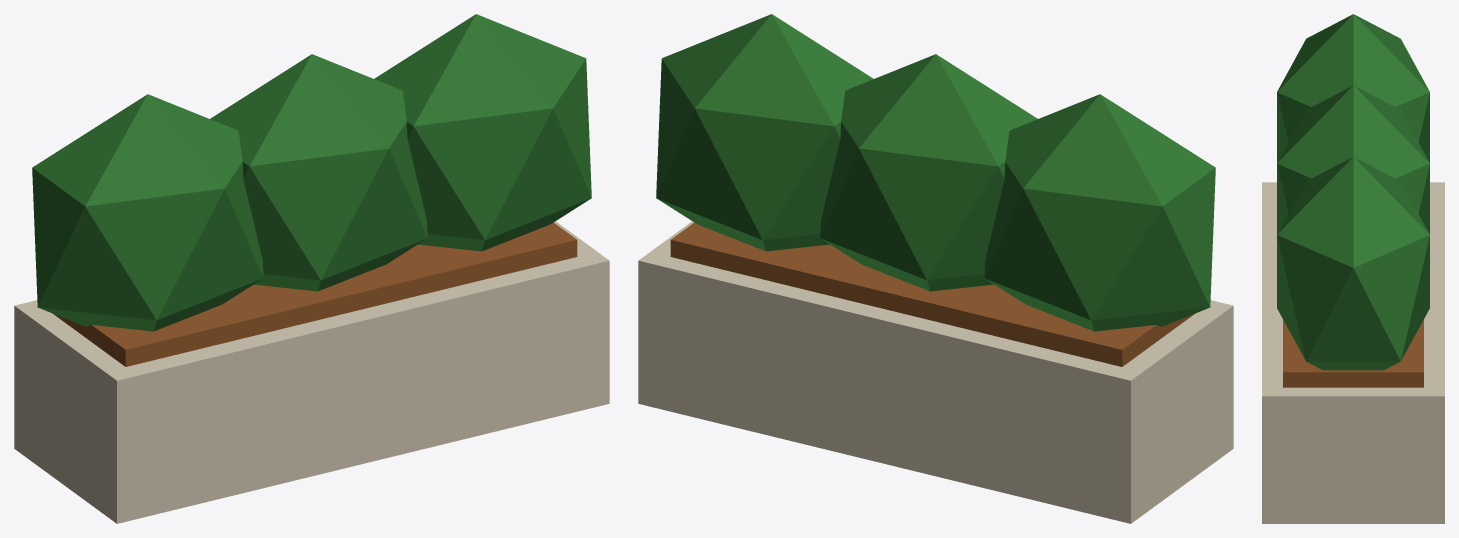
The model's file is hedge_planter.glb.
3 views of the same model, side by side, from view 1: azimuth 30°, elevation 25°; view 2: azimuth 150°, elevation 25°; view 3: azimuth 270°, elevation 25° (orthographic). The views are drawn at different scales.
Parts seen in each view (by area): view 1: hedge_planter_pc; view 2: hedge_planter_pc; view 3: hedge_planter_pc.
Part boxes in pixels (x1,y1,x2,y2): hedge_planter_pc: [14, 14, 609, 523]; hedge_planter_pc: [638, 14, 1233, 523]; hedge_planter_pc: [1262, 14, 1444, 523].
Bounding box in the file's own units: 2 × 1.3 × 0.65.
